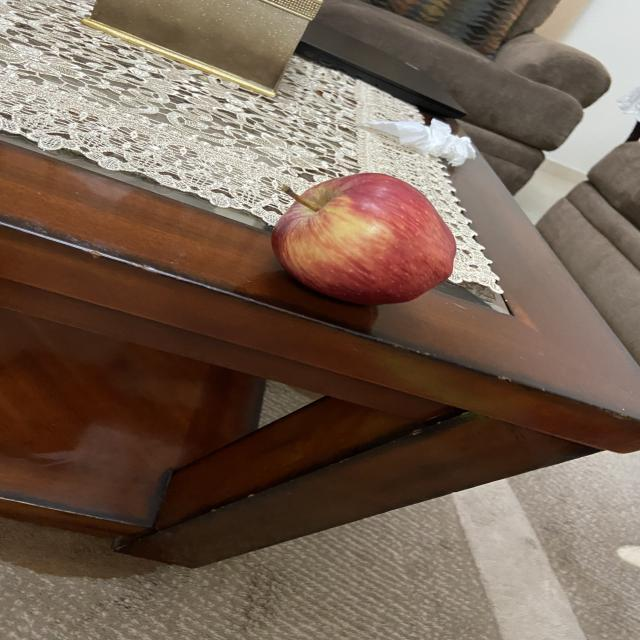apple: (259, 165, 464, 306)
